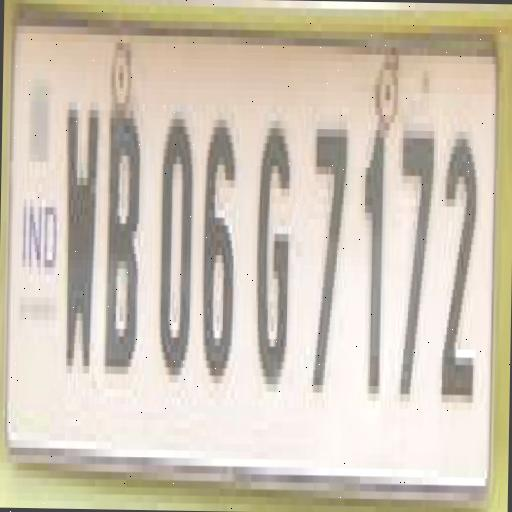number plate: (17, 3, 512, 486)
